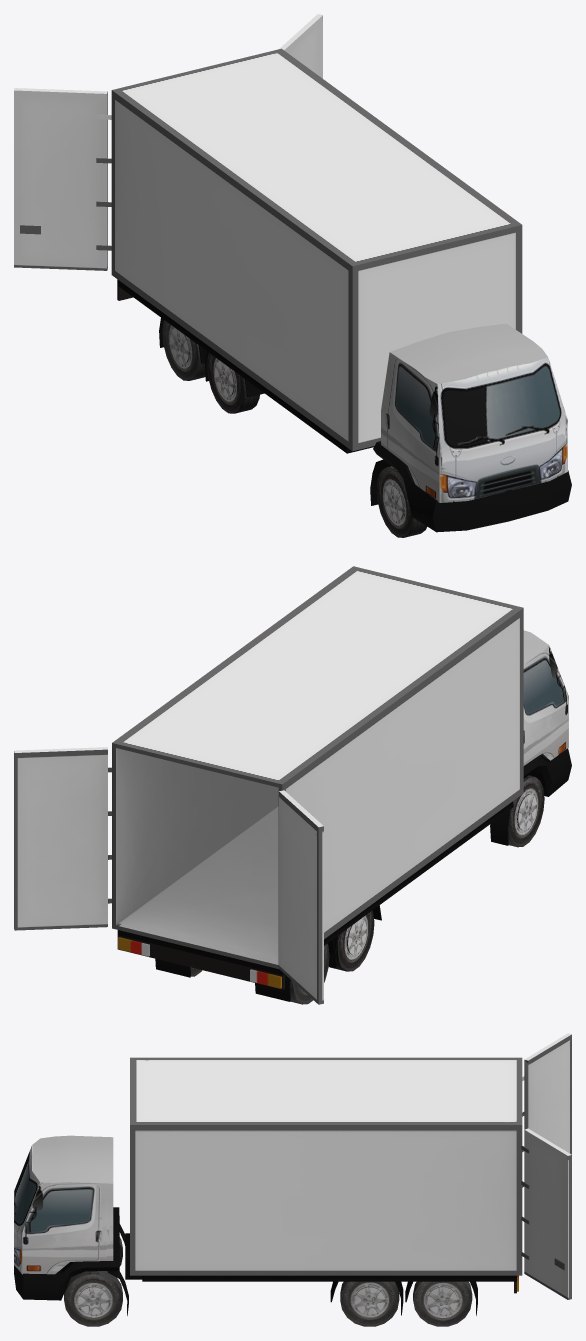
File: Camion.FBX
The picture shows the model from 3 angles, top to bottom: view 1: azimuth 30°, elevation 25°; view 2: azimuth 150°, elevation 25°; view 3: azimuth 270°, elevation 25°; orthographic projection. The views are drawn at different scales.
Parts seen in each view (by area): view 1: Vagon, Cabina, Puerta001, Parte_posterior, llantas_3, llantas_1, llantas_2, Puerta002; view 2: Vagon, Puerta002, Puerta001, Cabina, Parte_posterior, llantas_3, llantas_1, llantas_2; view 3: Vagon, Cabina, Puerta002, Puerta001, Parte_posterior, llantas_3, llantas_2, llantas_1.
Boxes of the visible parts, left/top/right/bottom form: Vagon: left=111, top=48, right=522, bottom=451; Cabina: left=370, top=323, right=571, bottom=532; Puerta001: left=14, top=88, right=111, bottom=270; Parte_posterior: left=117, top=279, right=374, bottom=453; llantas_3: left=376, top=466, right=427, bottom=537; llantas_1: left=207, top=353, right=259, bottom=413; llantas_2: left=162, top=320, right=205, bottom=380; Puerta002: left=279, top=14, right=322, bottom=78; Vagon: left=112, top=566, right=523, bottom=968; Puerta002: left=14, top=747, right=111, bottom=930; Puerta001: left=279, top=790, right=323, bottom=1004; Cabina: left=490, top=630, right=571, bottom=845; Parte_posterior: left=117, top=801, right=513, bottom=1001; llantas_3: left=508, top=775, right=544, bottom=847; llantas_1: left=329, top=910, right=374, bottom=971; llantas_2: left=190, top=943, right=329, bottom=1004; Vagon: left=130, top=1057, right=522, bottom=1275; Cabina: left=14, top=1135, right=128, bottom=1315; Puerta002: left=521, top=1128, right=571, bottom=1299; Puerta001: left=522, top=1033, right=571, bottom=1187; Parte_posterior: left=125, top=1233, right=518, bottom=1315; llantas_3: left=64, top=1237, right=122, bottom=1326; llantas_2: left=413, top=1281, right=472, bottom=1326; llantas_1: left=340, top=1281, right=399, bottom=1326.
Size of the model in its own units: 237 by 189 by 456.
Materials: 4 (4 with a texture image).
